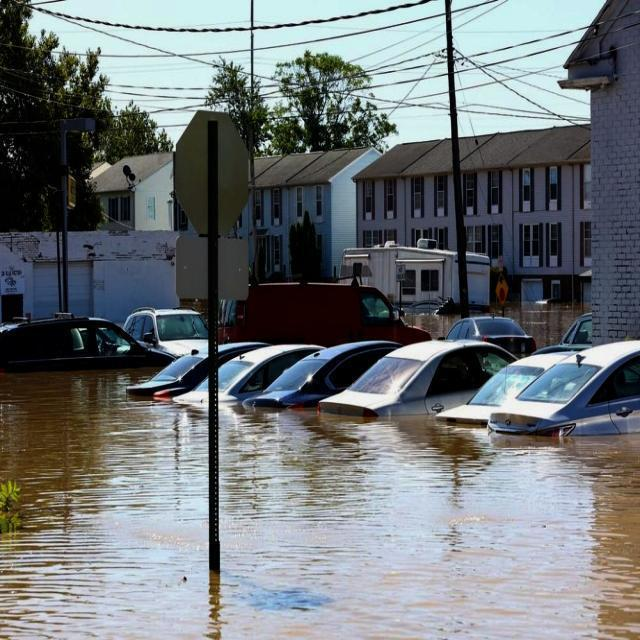water: (1, 366, 637, 637)
